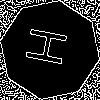H: (25, 25, 77, 70)
